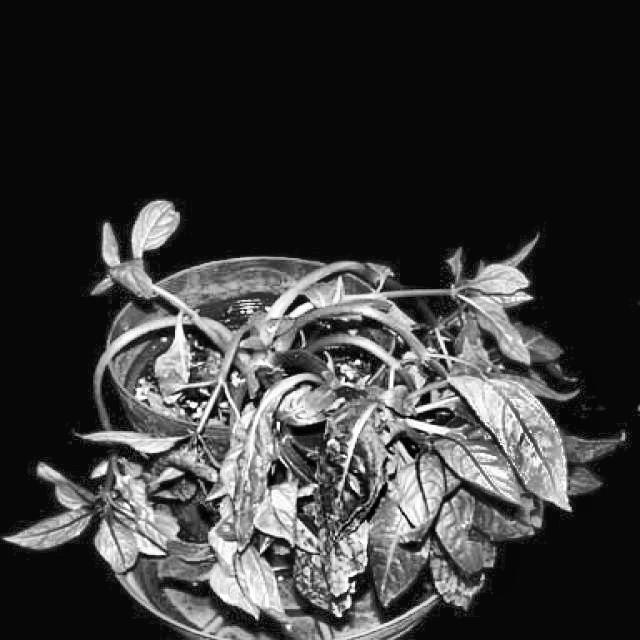plants: (178, 234, 638, 638)
